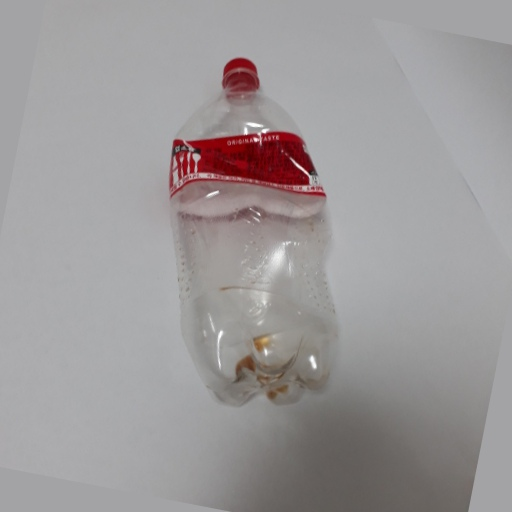Plastic_0: (166, 51, 343, 406)
